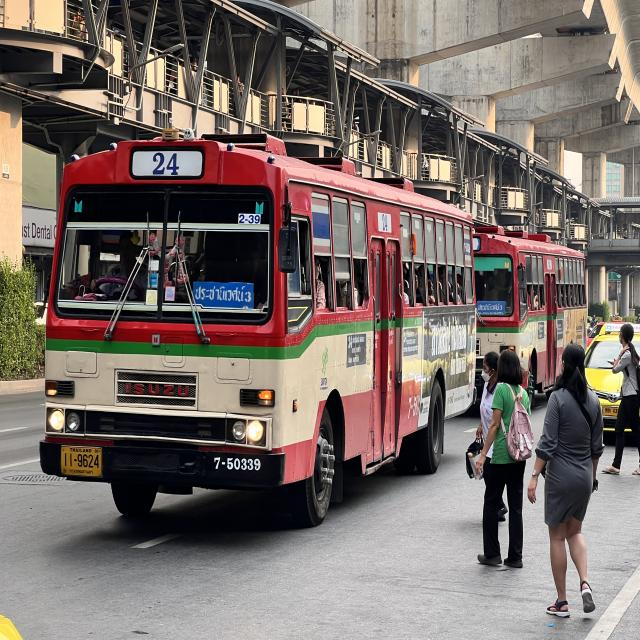BMTA-bus: (30, 120, 481, 534), (470, 226, 587, 408)
Bus-Line-Number: (131, 148, 206, 178)
Destination-Sign-Normal: (192, 280, 256, 310)
